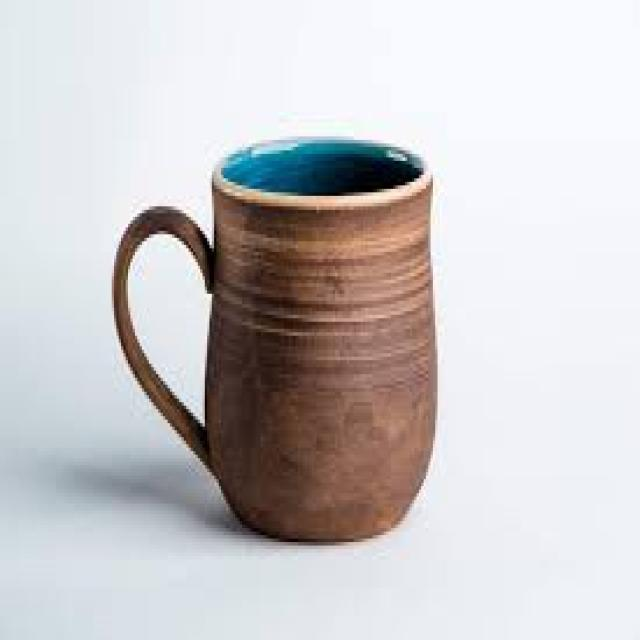taza: (111, 135, 438, 544)
